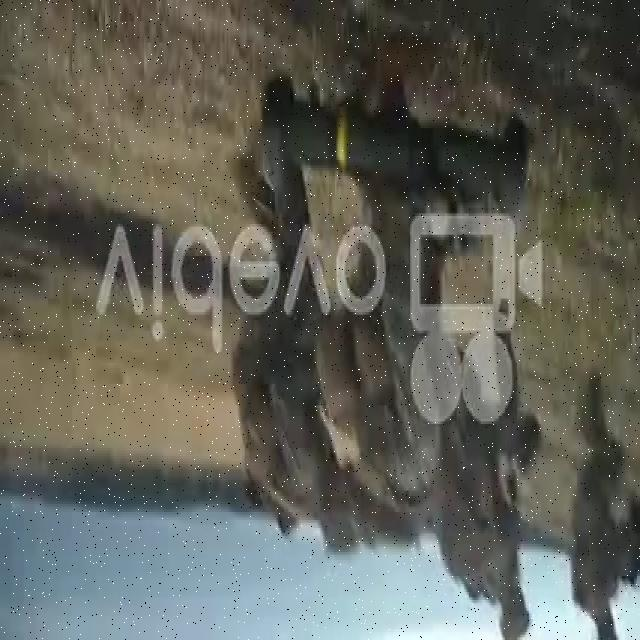bazooka: (259, 72, 532, 228)
